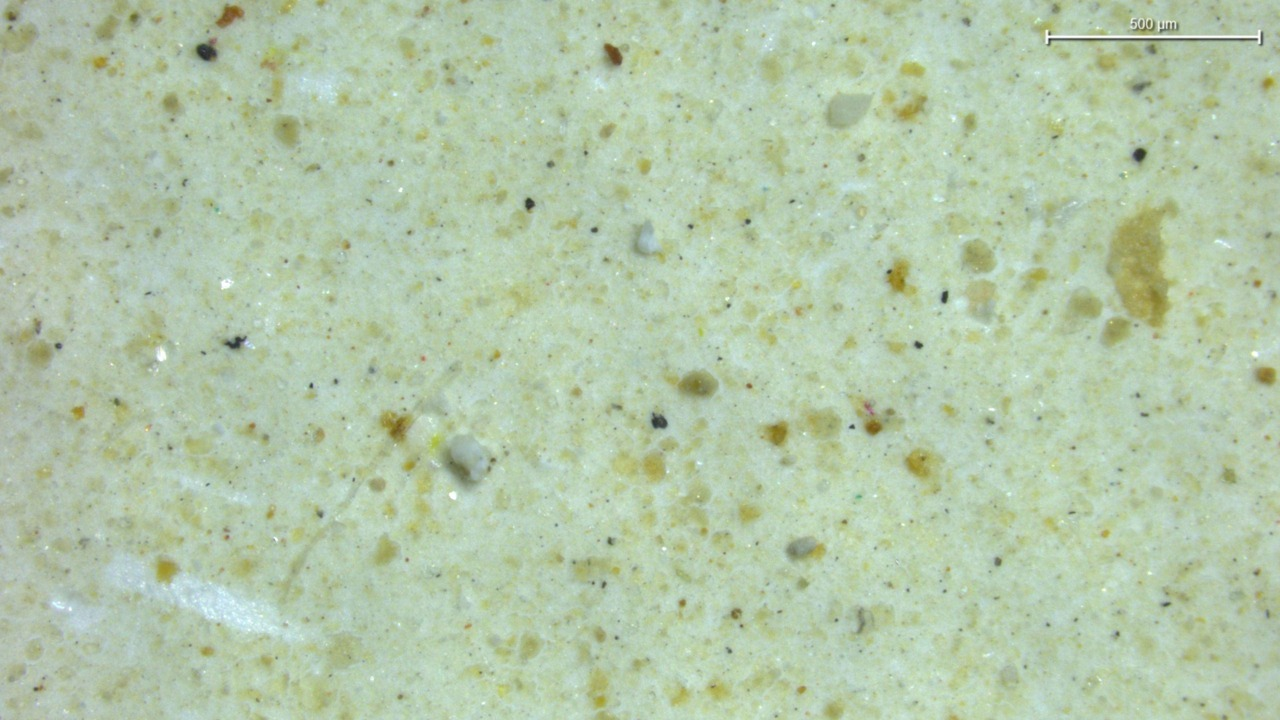microplastic_fragment: (448, 435, 492, 482), (827, 93, 872, 128), (636, 220, 661, 253)
